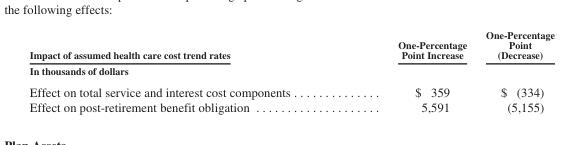table: (28, 28, 554, 114)
table column: (28, 28, 343, 114), (343, 28, 475, 114), (475, 28, 554, 114)
table column header: (28, 28, 554, 62)
table projected row header: (28, 62, 554, 80)
table row: (28, 28, 554, 62), (28, 80, 554, 99), (28, 62, 554, 80), (28, 99, 554, 114)
